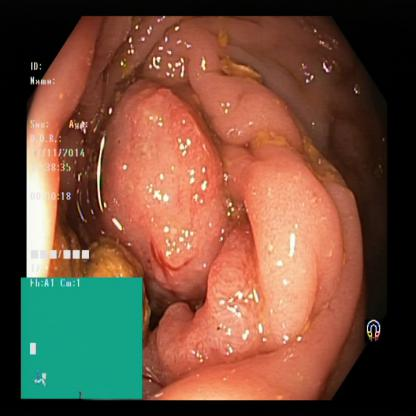Labels: (21, 277, 144, 398), (31, 61, 103, 267), (361, 314, 386, 345)
Polyps: (107, 96, 221, 278), (244, 149, 346, 331), (159, 300, 245, 368)
